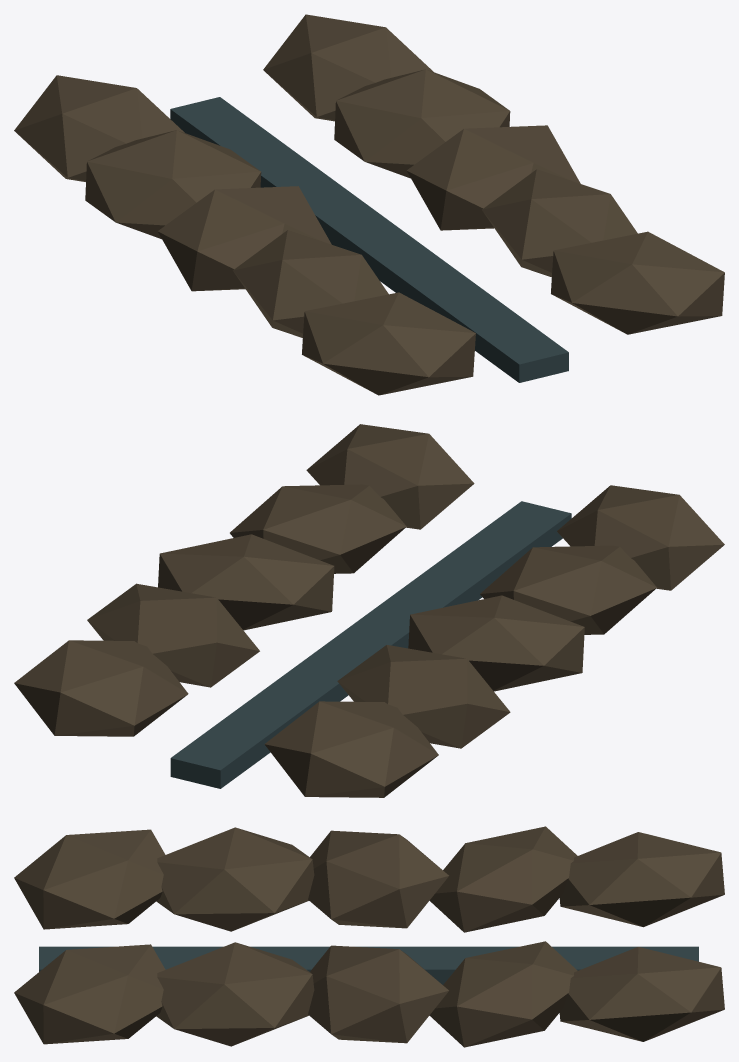
The model's file is ditch-cut.glb.
3 renders of one model, top to bottom at view 1: azimuth 30°, elevation 25°; view 2: azimuth 150°, elevation 25°; view 3: azimuth 270°, elevation 25°, orthographic. The views are drawn at different scales.
Parts seen in each view (by area): view 1: ditch-cut; view 2: ditch-cut; view 3: ditch-cut.
Part boxes in pixels (bbox=[...]): ditch-cut: bbox=[14, 14, 724, 395]; ditch-cut: bbox=[14, 424, 724, 797]; ditch-cut: bbox=[14, 826, 724, 1047].
Bounding box in the file's own units: 1.12 × 0.2204 × 1.83.
